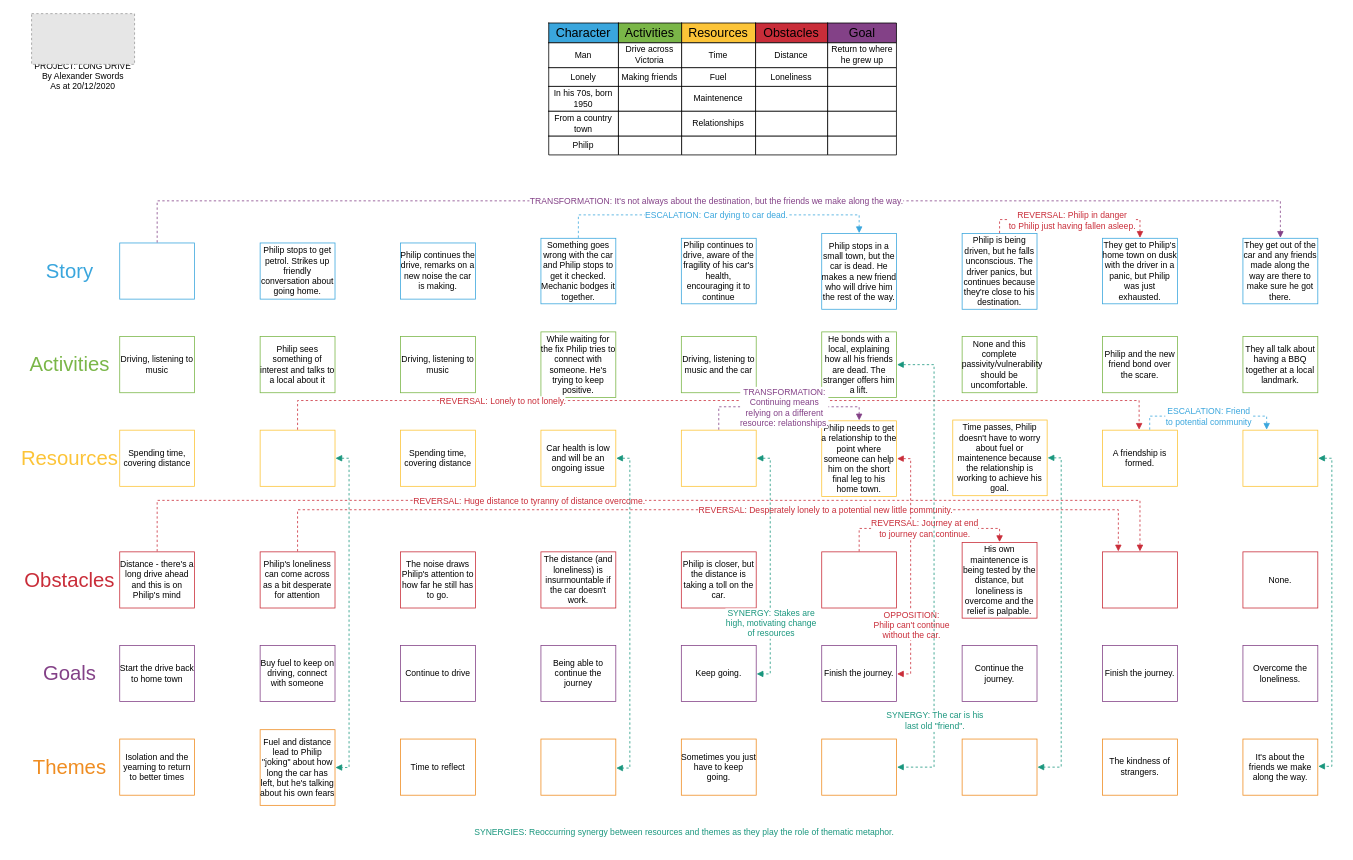
The diagram is 1353 pixels wide and 860 high, and some of its shapes have lost their labels. Grey dashed boxes stand in for pictures. The shapes that lost their labels are listed below. From the top down, each one's centre as x and y in pixels, then its label:
At point (157, 270): "Philip checks the tyres, then starts the long drive back to his home town.".
At point (297, 457): "Fuel is low, but Philip buys more His loneliness is evident in the conversation".
At point (718, 457): "Spending time, covering distance, aware of low car health".
At point (1280, 457): "A new group of friends is formed.".
At point (859, 579): "Philips journey could be at an end, short of his goal.".
At point (1139, 579): "None!".
At point (578, 766): "Remaining optimistic even when reminded of one's mortality".
At point (859, 766): "Life is about people and relationships.".
At point (999, 766): "Sometimes company is enough.".
